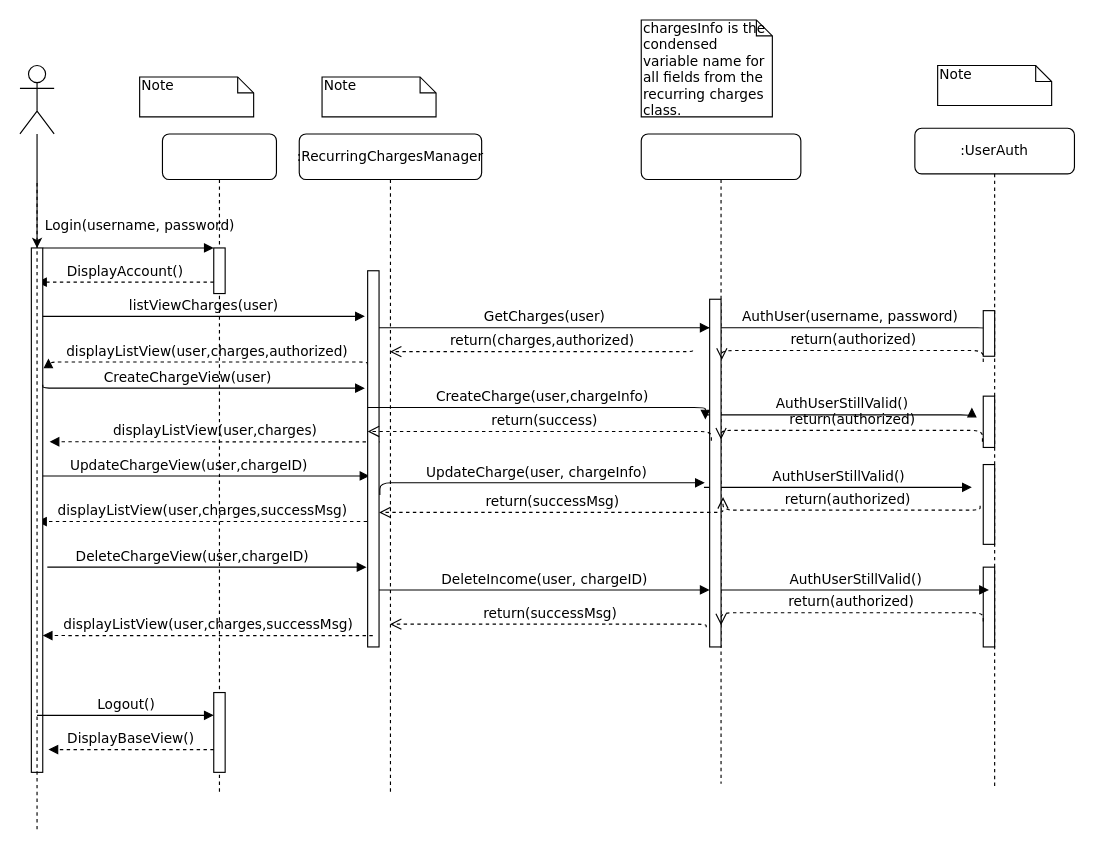
Some shapes in this 1094 by 850 pixel diagram are drawn without their labels. Each missing label, with the centre of its shape:
:Homepage: [218,464]
:RecurringChargesDAO: [720,458]
User: [36,99]
